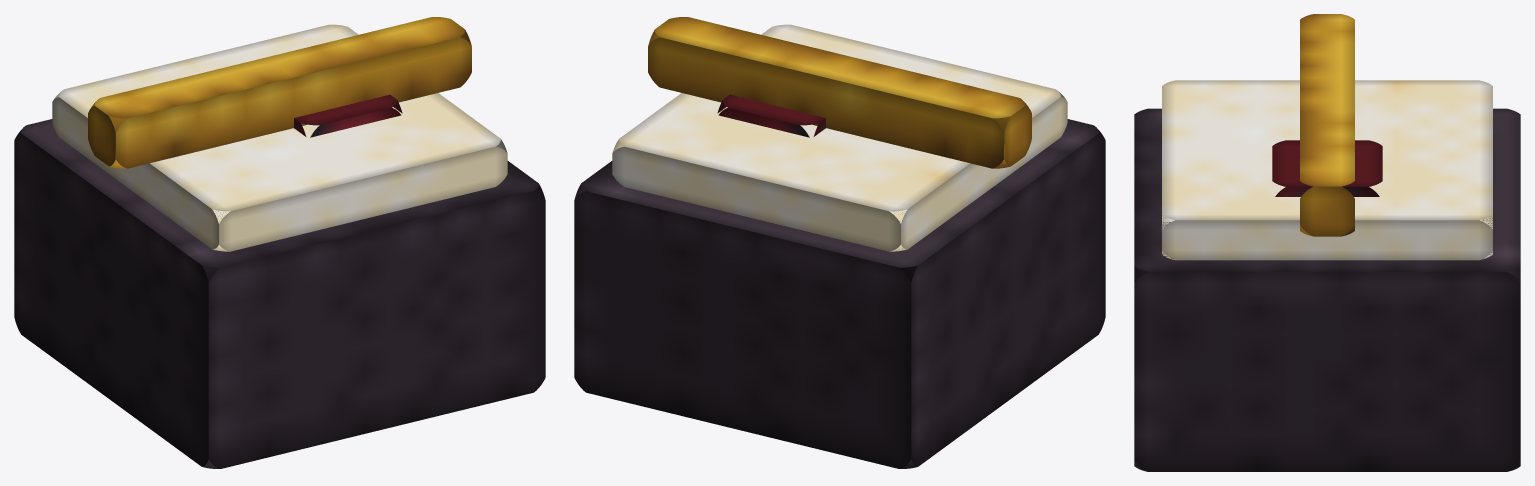
File: greasepaint.obj
3 views of the same model, side by side, from view 1: azimuth 30°, elevation 25°; view 2: azimuth 150°, elevation 25°; view 3: azimuth 270°, elevation 25° (orthographic).
Visible parts, largest first — view 1: lit; view 2: lit; view 3: lit.
Boxes of the visible parts, <box> form: lit: <box>14,17,545,468</box>; lit: <box>574,17,1105,468</box>; lit: <box>1134,14,1520,471</box>.
Bounding box in the file's own units: 0.4625 × 0.3625 × 0.4375.
